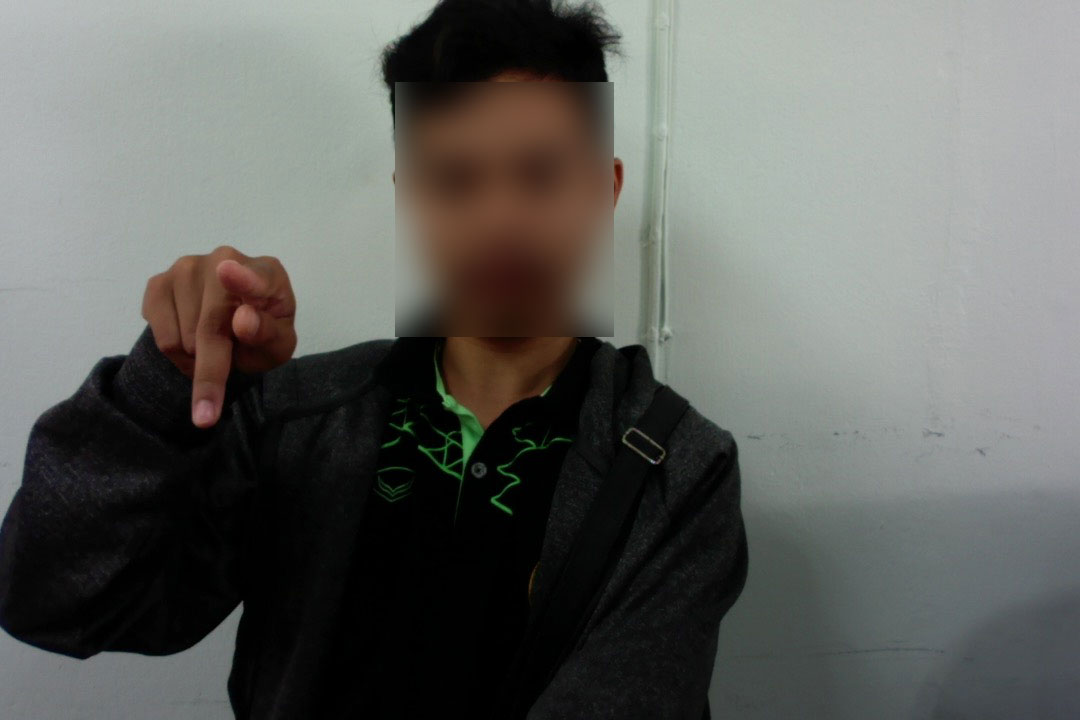por: (129, 238, 309, 437)
